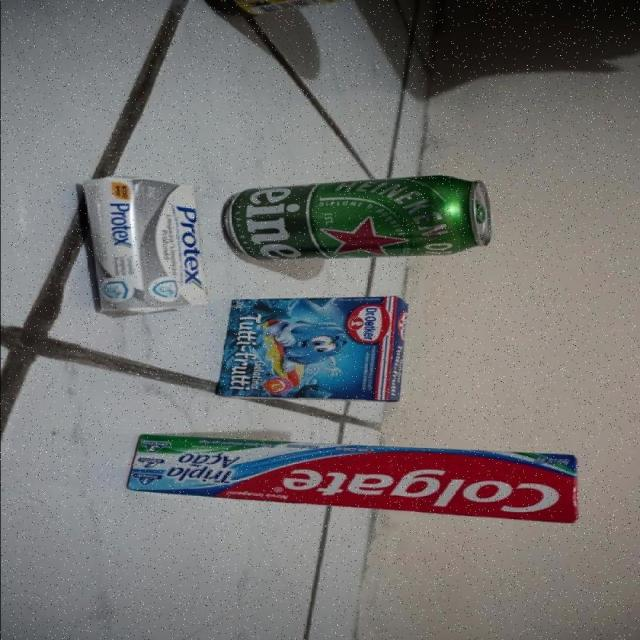BeerCan: (224, 174, 489, 263)
Gelatine: (215, 296, 408, 401)
Soap: (85, 172, 210, 320)
Toothpaste: (121, 433, 578, 523)
